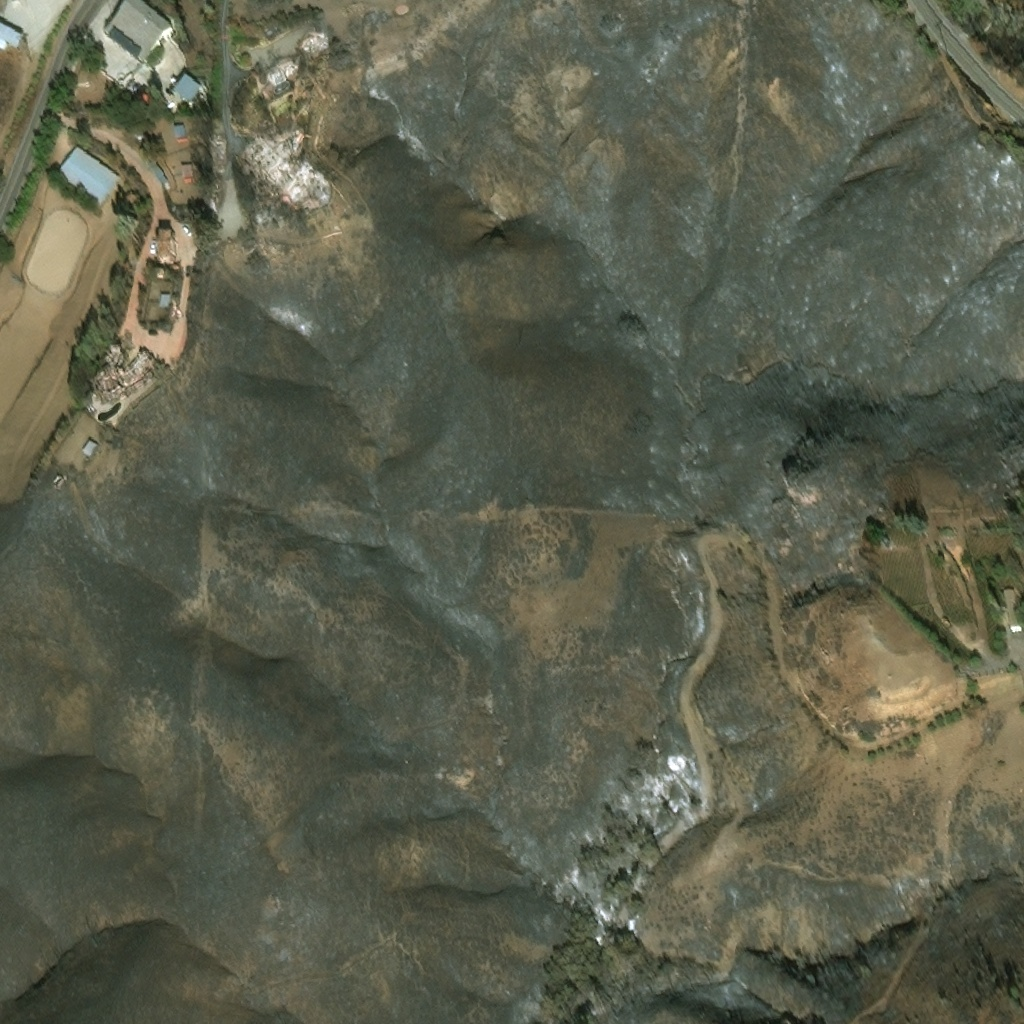0 no-damage: (100, 0, 169, 57), (54, 141, 115, 199), (172, 69, 200, 99), (1000, 583, 1019, 627), (0, 20, 25, 49), (157, 227, 175, 260), (147, 154, 166, 179), (82, 441, 99, 460), (178, 158, 192, 177), (120, 183, 135, 198), (171, 119, 184, 134), (159, 295, 172, 310)
2 major-damage: (50, 470, 67, 489)
3 destroyed: (236, 125, 306, 191), (92, 343, 164, 398), (288, 167, 331, 212), (265, 58, 297, 83), (298, 27, 324, 53), (169, 306, 180, 320), (304, 95, 316, 107)
